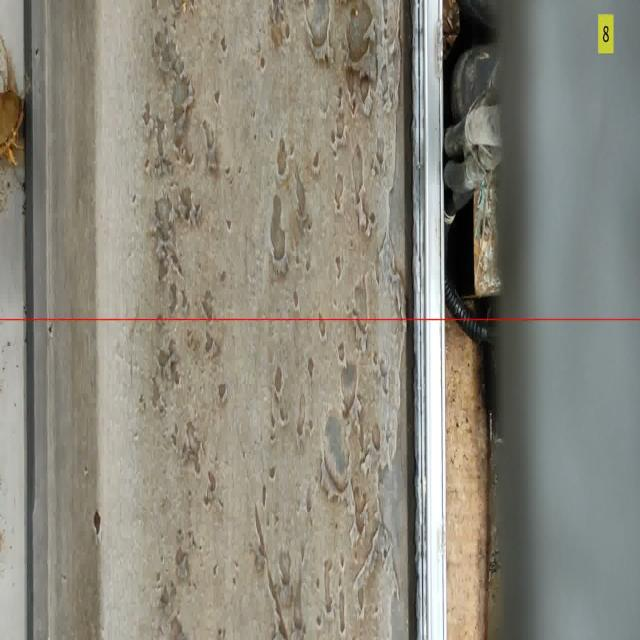Coconut-Conveyor-Belt: (0, 79, 21, 146)
